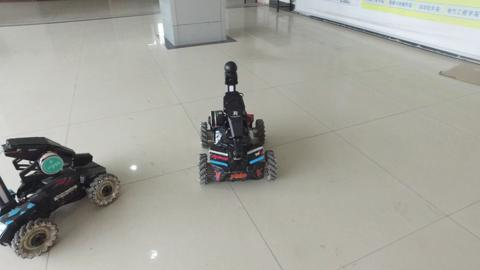chariot: (190, 58, 280, 183)
